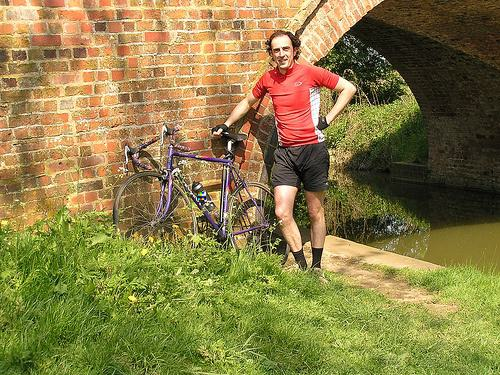bottle: (192, 181, 219, 215)
car: (110, 127, 295, 266)
person: (213, 30, 356, 284)
